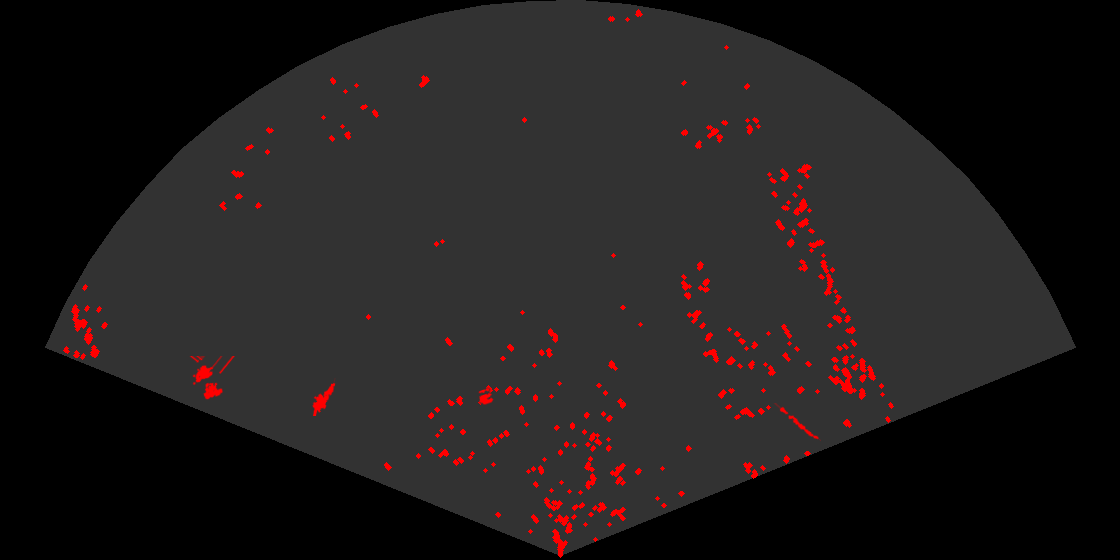ball: (477, 387, 495, 407)
cage: (188, 356, 235, 401)
chain: (772, 403, 821, 443)
frogman: (311, 378, 336, 416)
